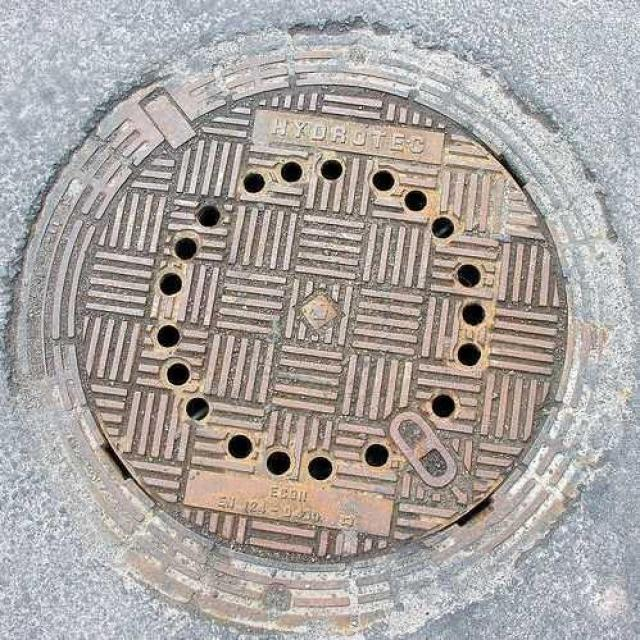manhole: (26, 31, 614, 621)
